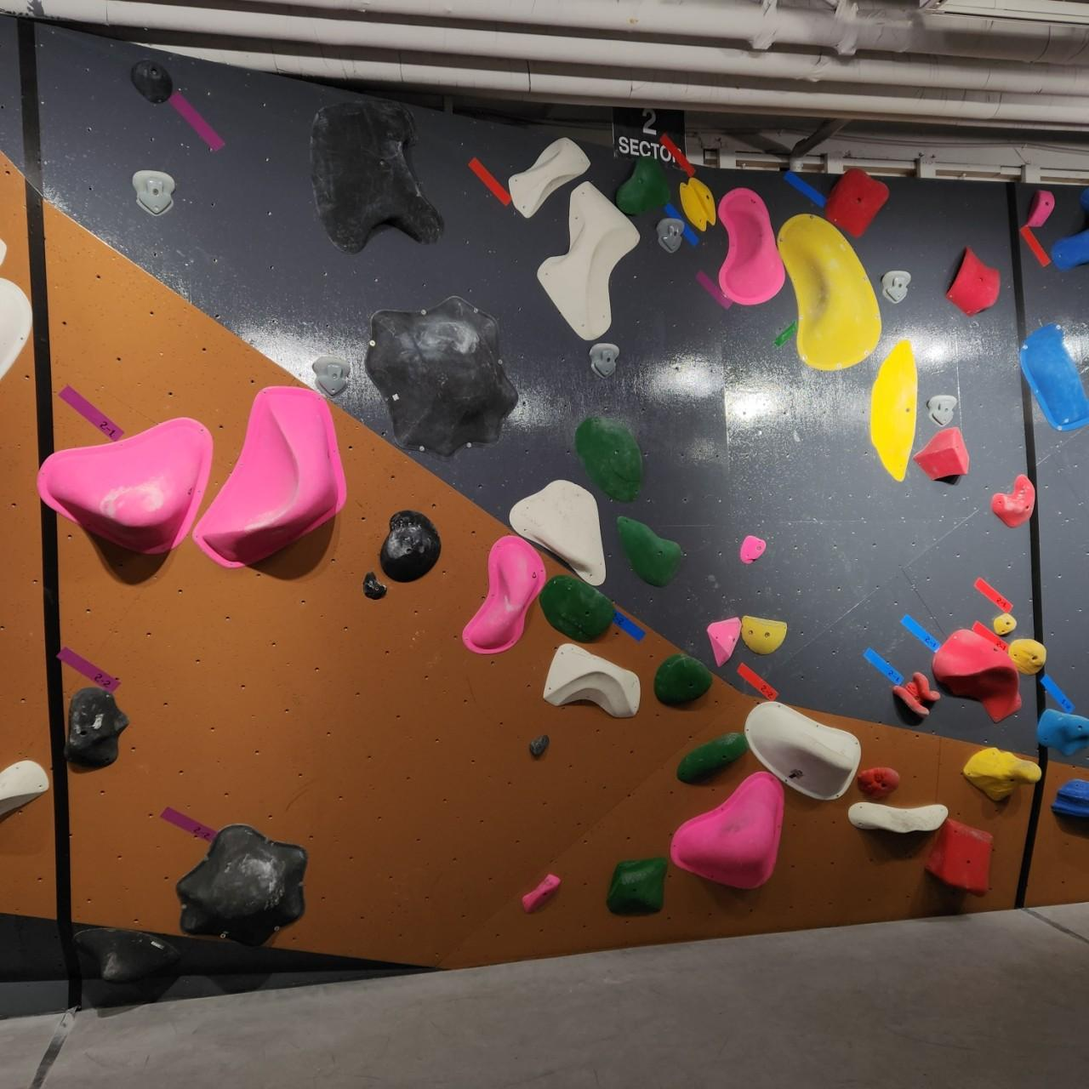hold: (193, 386, 345, 567), (366, 296, 517, 457), (38, 418, 211, 552), (310, 100, 442, 253), (537, 182, 640, 340), (778, 214, 880, 370), (178, 824, 307, 946), (670, 772, 784, 889), (744, 702, 861, 800), (510, 481, 605, 585), (463, 535, 545, 653), (932, 630, 1019, 721), (718, 189, 785, 302), (1019, 324, 1088, 430), (543, 643, 640, 717), (870, 339, 916, 481), (509, 138, 590, 217), (575, 416, 642, 503), (75, 928, 179, 982), (66, 687, 128, 768), (926, 819, 992, 895), (539, 575, 612, 641), (380, 510, 441, 582), (962, 747, 1041, 802), (618, 517, 681, 585), (825, 169, 888, 237), (946, 245, 1000, 315), (677, 733, 747, 784), (606, 857, 667, 915), (848, 801, 947, 834), (616, 157, 670, 215), (0, 278, 31, 379), (654, 654, 711, 706), (0, 761, 48, 818), (915, 427, 967, 479), (1037, 709, 1088, 757), (991, 474, 1034, 527), (893, 672, 939, 719), (680, 177, 715, 231), (132, 171, 174, 215), (132, 60, 172, 104), (741, 616, 787, 653), (708, 617, 741, 666), (1052, 230, 1088, 270), (1052, 779, 1088, 818), (523, 874, 560, 911), (1007, 639, 1045, 675), (858, 767, 899, 799), (1028, 185, 1054, 227), (927, 395, 958, 426), (881, 271, 910, 304), (590, 343, 618, 377), (658, 218, 683, 253), (741, 535, 766, 563), (362, 571, 385, 600), (993, 612, 1016, 636), (529, 735, 550, 759)
